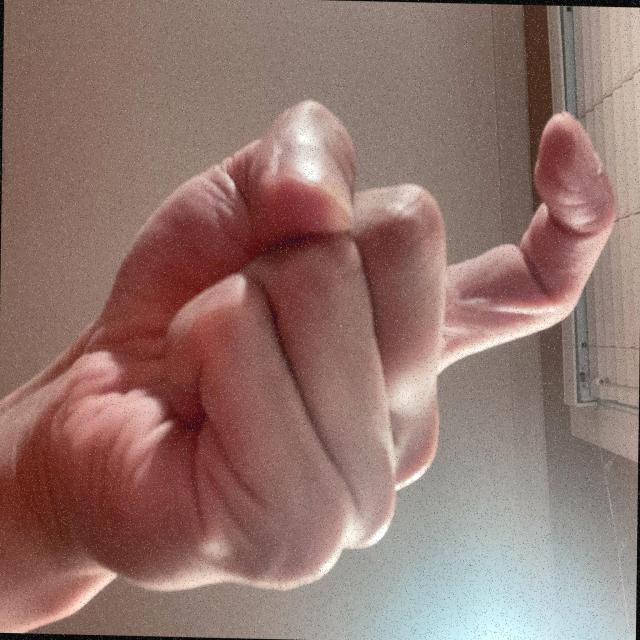X: (218, 24, 620, 640)
